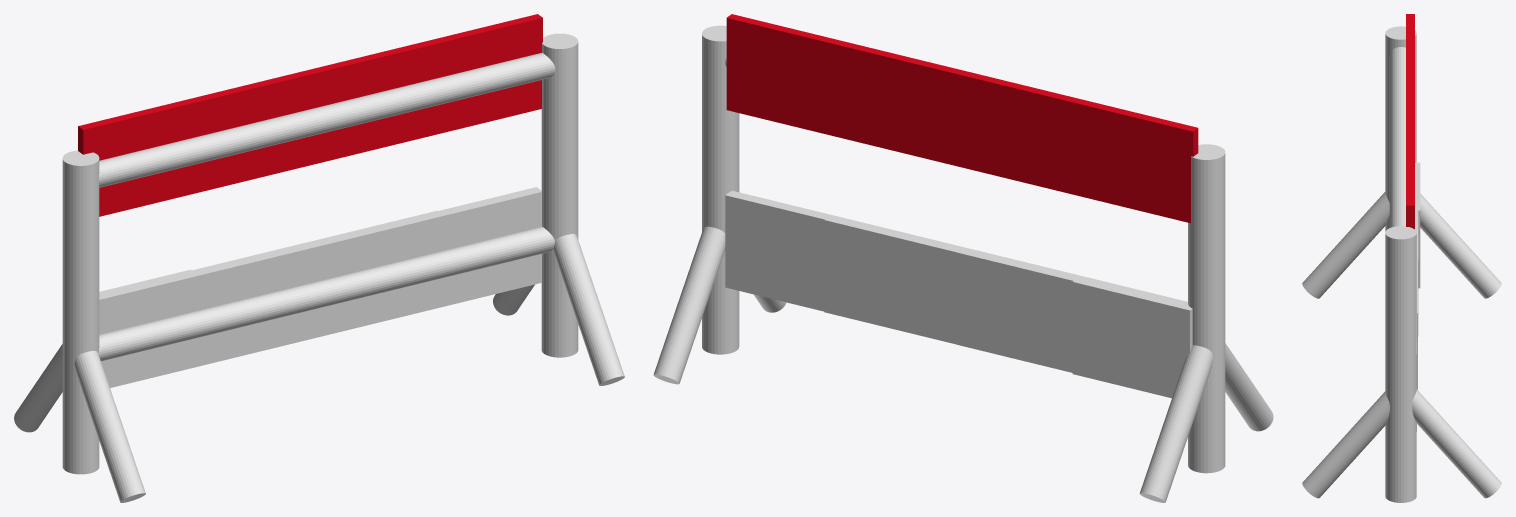
Rendered from updatedroadblock.fbx.
3 views of the same model, side by side, from view 1: azimuth 30°, elevation 25°; view 2: azimuth 150°, elevation 25°; view 3: azimuth 270°, elevation 25° (orthographic). The views are drawn at different scales.
Visible parts, largest first — view 1: Cube.001, Cube, Cylinder.003, Cylinder.002, Cylinder.001, Cylinder.004; view 2: Cube, Cube.001, Cylinder.003, Cylinder.002; view 3: Cylinder.002, Cylinder.003, Cylinder.001, Cube.001, Cube.
Part boxes in pixels (left/top/right/bottom): Cube.001: left=78, top=14, right=542, bottom=216; Cube: left=99, top=187, right=541, bottom=387; Cylinder.003: left=14, top=150, right=145, bottom=502; Cylinder.002: left=493, top=33, right=624, bottom=385; Cylinder.001: left=98, top=53, right=555, bottom=187; Cylinder.004: left=98, top=226, right=554, bottom=361; Cube: left=725, top=191, right=1192, bottom=398; Cube.001: left=726, top=14, right=1198, bottom=223; Cylinder.003: left=1139, top=144, right=1273, bottom=502; Cylinder.002: left=653, top=25, right=786, bottom=384; Cylinder.002: left=1302, top=226, right=1501, bottom=502; Cylinder.003: left=1302, top=26, right=1501, bottom=298; Cylinder.001: left=1389, top=47, right=1405, bottom=227; Cube.001: left=1406, top=14, right=1414, bottom=229; Cube: left=1415, top=162, right=1420, bottom=431.
Size of the model in its own units: 800 by 500 by 316.
